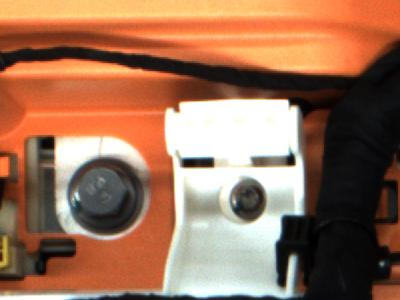nut_b: (64, 153, 146, 236)
